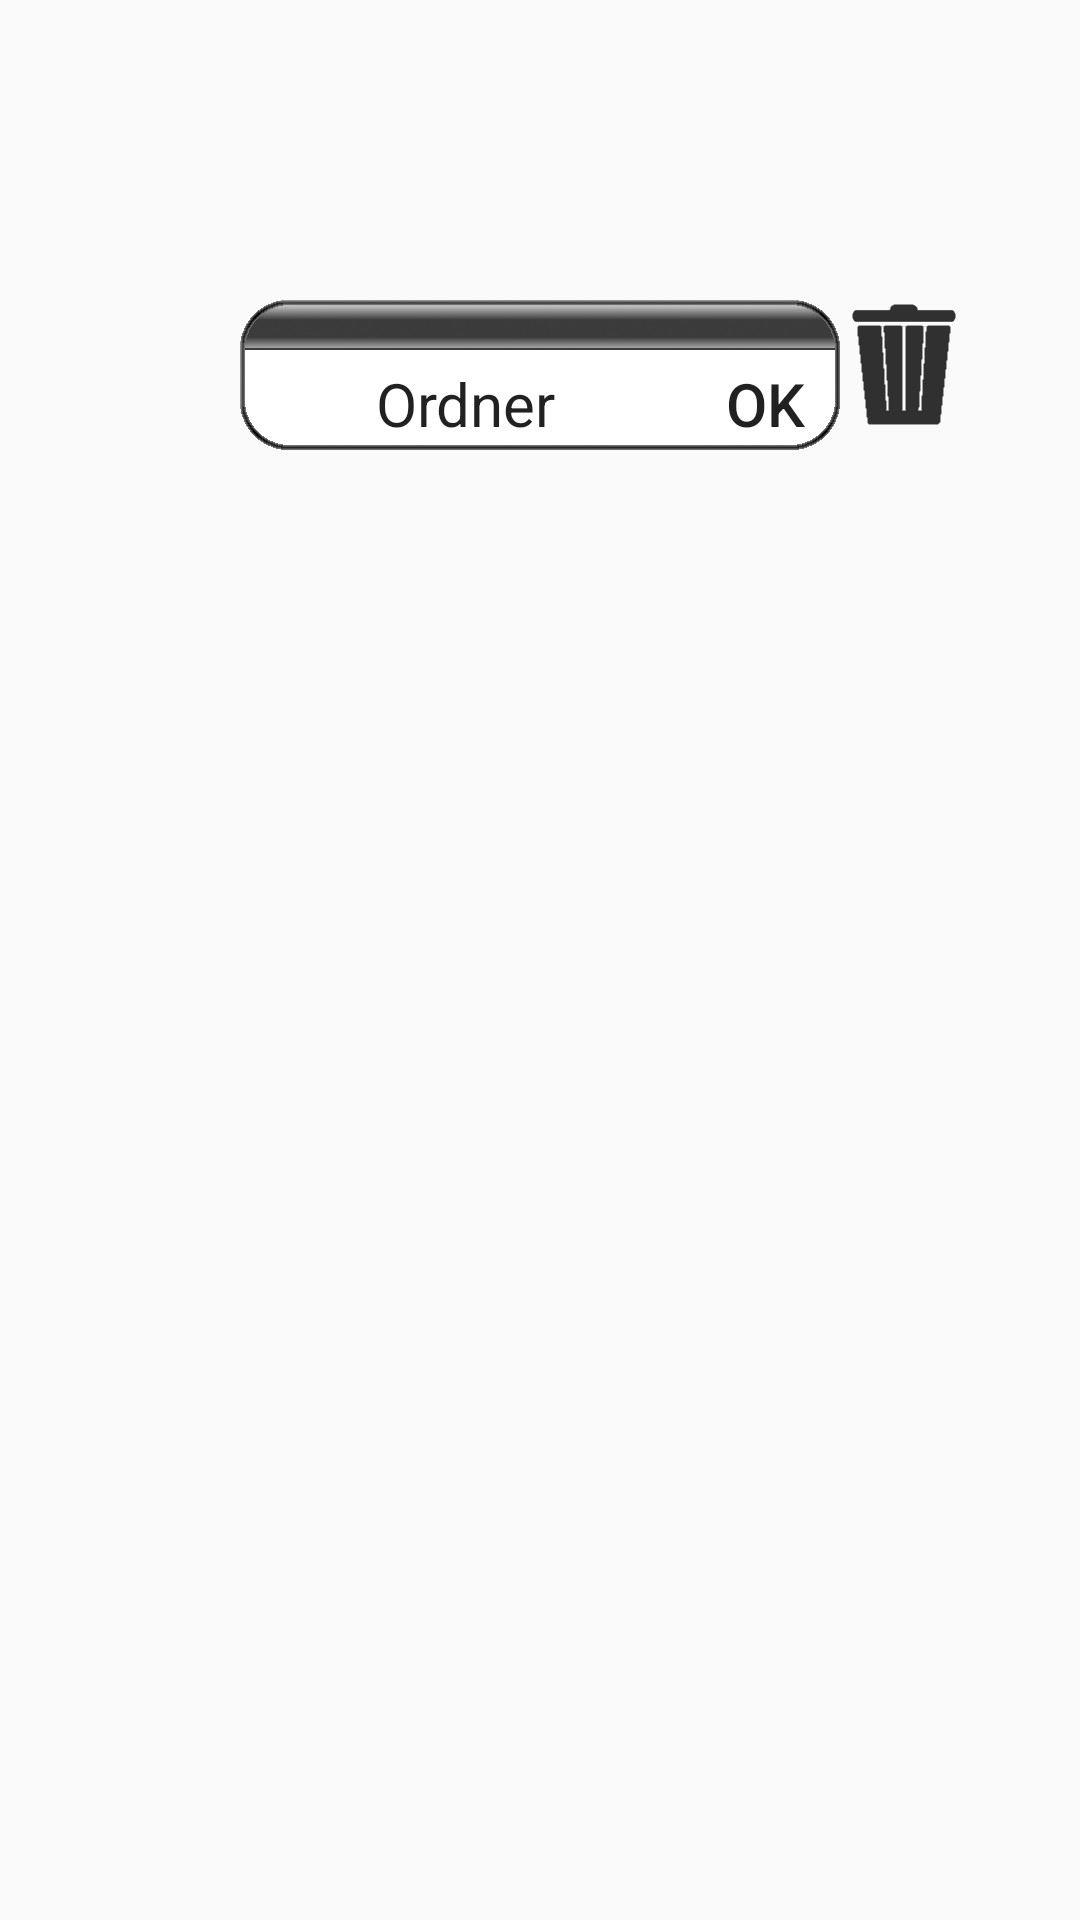

Locate icon controls on the screen. Image size 1080x1920, boxes as (x1, y1, x2, y2).
trashcan: (852, 304, 956, 425)
